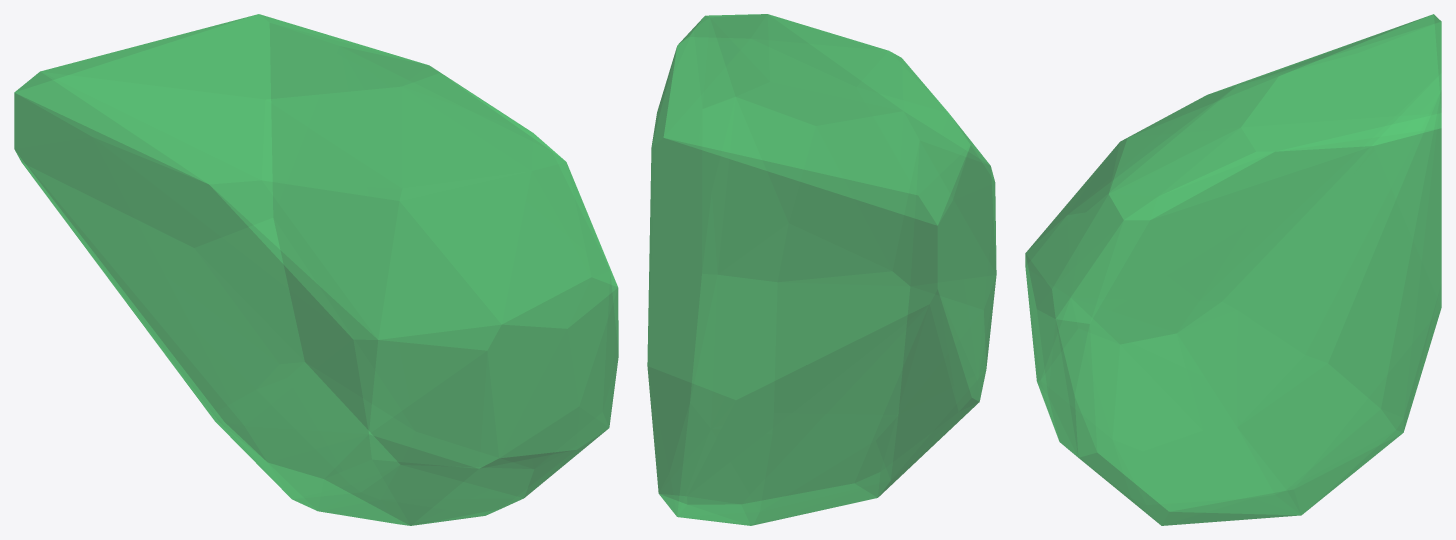
3 renders of one model, left to right at view 1: azimuth 30°, elevation 25°; view 2: azimuth 150°, elevation 25°; view 3: azimuth 270°, elevation 25°, orthographic. The views are drawn at different scales.
Visible parts, largest first — view 1: Shape_IndexedFaceSet.001_Shape_IndexedFaceSet.14827; view 2: Shape_IndexedFaceSet.001_Shape_IndexedFaceSet.14827; view 3: Shape_IndexedFaceSet.001_Shape_IndexedFaceSet.14827.
Part boxes in pixels (left/top/right/bottom): Shape_IndexedFaceSet.001_Shape_IndexedFaceSet.14827: left=14, top=14, right=618, bottom=525; Shape_IndexedFaceSet.001_Shape_IndexedFaceSet.14827: left=647, top=14, right=996, bottom=525; Shape_IndexedFaceSet.001_Shape_IndexedFaceSet.14827: left=1025, top=14, right=1441, bottom=525.
Bounding box in the file's own units: 0.0475 × 0.0466 × 0.0466.
